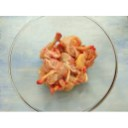chicken_lollipop: (39, 31, 96, 93)
